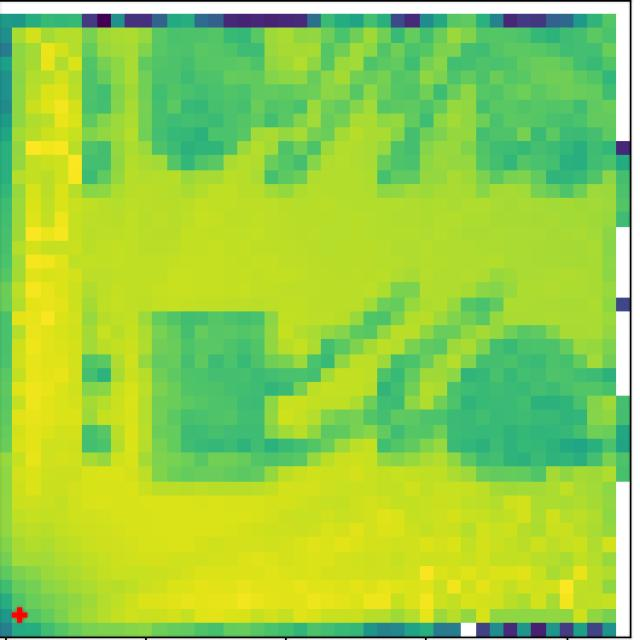Concrete: (472, 34, 602, 196)
Glass: (141, 29, 263, 172)
Metal: (461, 327, 602, 484)
Wood: (142, 309, 286, 491)
